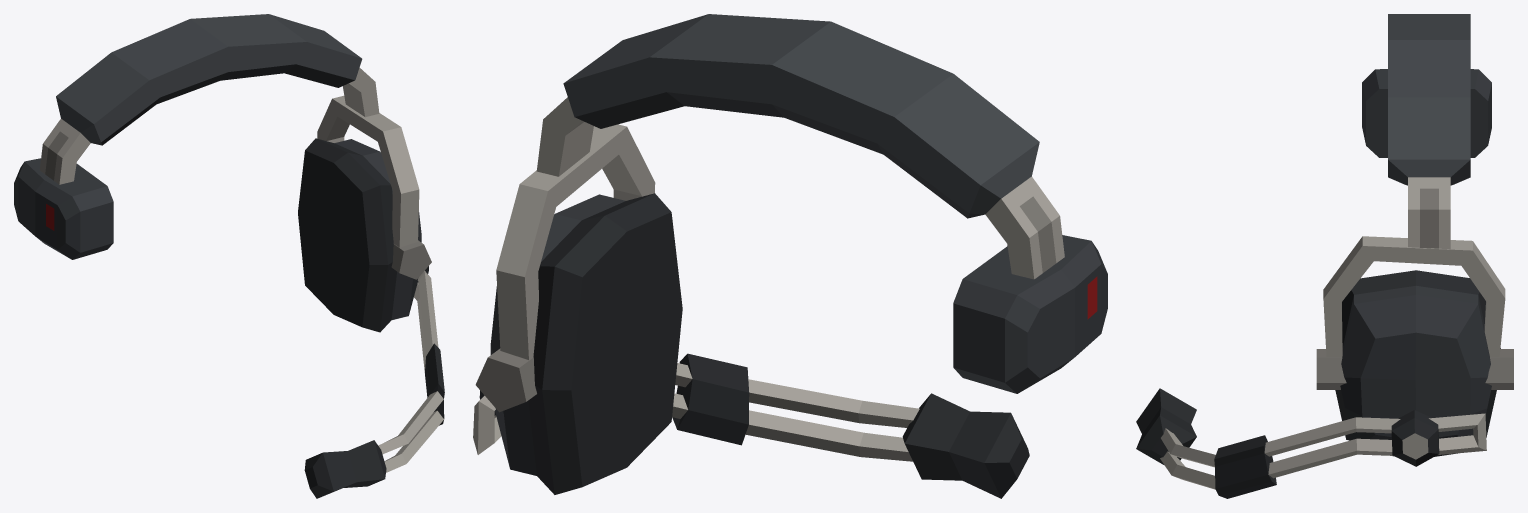
File: SM_Chr_Attach_Headset_02.fbx
3 views of the same model, side by side, from view 1: azimuth 30°, elevation 25°; view 2: azimuth 150°, elevation 25°; view 3: azimuth 270°, elevation 25° (orthographic). The views are drawn at different scales.
Parts seen in each view (by area): view 1: SM_Chr_Attach_Headset_02; view 2: SM_Chr_Attach_Headset_02; view 3: SM_Chr_Attach_Headset_02.
Boxes of the visible parts, <box> form: SM_Chr_Attach_Headset_02: <box>14,14,444,498</box>; SM_Chr_Attach_Headset_02: <box>473,14,1107,498</box>; SM_Chr_Attach_Headset_02: <box>1136,14,1513,498</box>.
Size of the model in its own units: 32.33 by 30.46 by 25.51.
